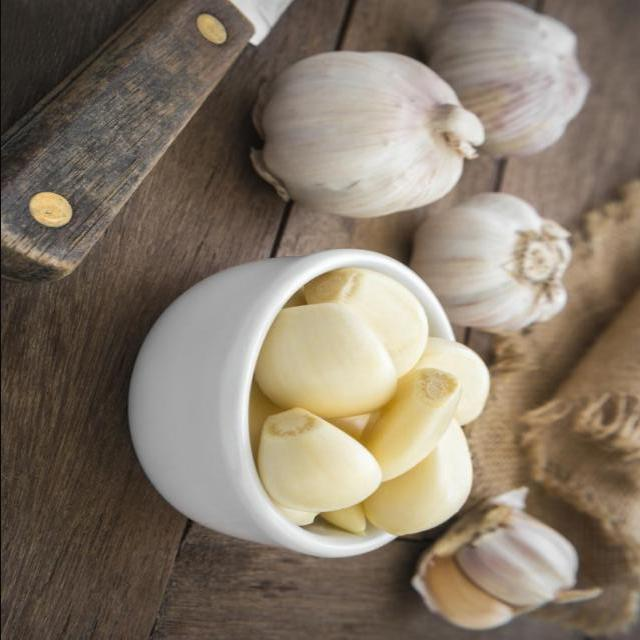garlic: (261, 53, 479, 218), (422, 4, 587, 162), (409, 514, 589, 634), (415, 196, 571, 328), (255, 305, 397, 417), (367, 417, 471, 537), (262, 405, 382, 509), (311, 268, 421, 376), (366, 370, 456, 484)
